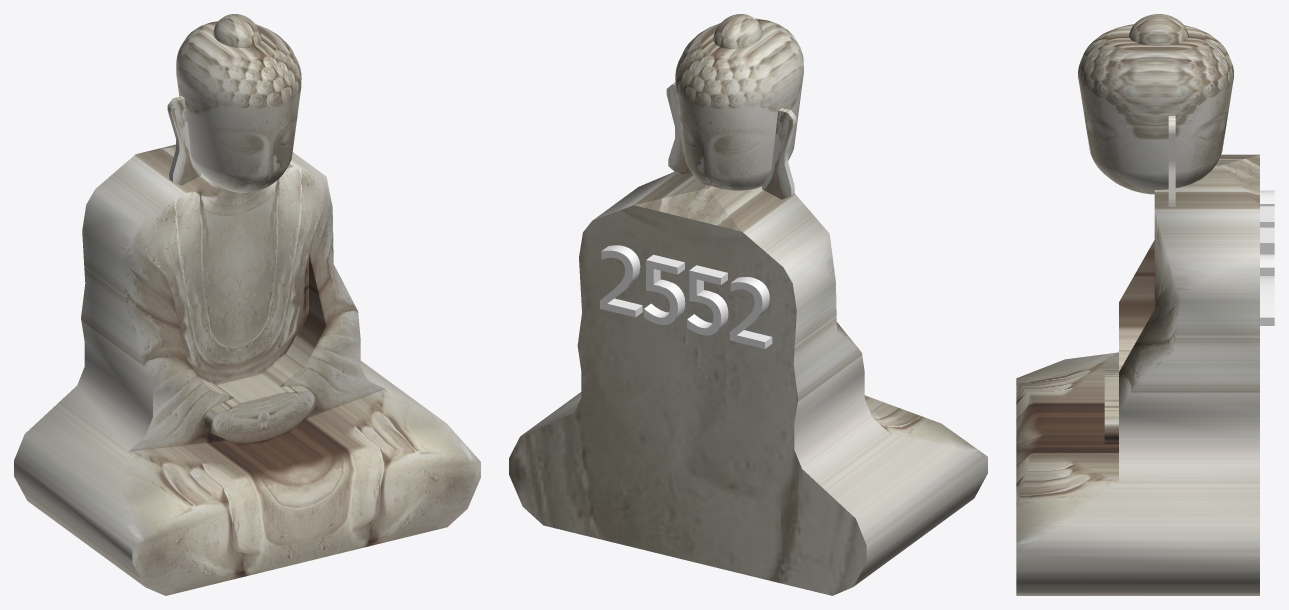
Rendered from Statue.dae.
3 renders of one model, left to right at view 1: azimuth 30°, elevation 25°; view 2: azimuth 150°, elevation 25°; view 3: azimuth 270°, elevation 25°, orthographic. The views are drawn at different scales.
Visible parts, largest first — view 1: group_1, group_3, group_4, group_2; view 2: group_1 (×4), group_3, instance_0, group_4 (×2), group_2; view 3: group_1 (×3), group_3, instance_0, group_2, group_4.
Boxes of the visible parts, left/top/right/bottom form: group_1: left=14, top=146, right=480, bottom=595; group_3: left=176, top=21, right=301, bottom=192; group_4: left=167, top=96, right=201, bottom=185; group_2: left=213, top=14, right=261, bottom=47; group_1 (×4): left=509, top=172, right=987, bottom=595; group_3: left=675, top=18, right=803, bottom=190; instance_0: left=600, top=245, right=772, bottom=348; group_4 (×2): left=666, top=82, right=796, bottom=199; group_2: left=713, top=14, right=762, bottom=48; group_1 (×3): left=1016, top=154, right=1259, bottom=595; group_3: left=1078, top=24, right=1233, bottom=194; instance_0: left=1260, top=190, right=1274, bottom=325; group_2: left=1129, top=14, right=1188, bottom=45; group_4: left=1168, top=115, right=1175, bottom=206.
Bounding box in the file's own units: 17.17 × 10.68 × 23.26.
5 materials, 4 textured.
